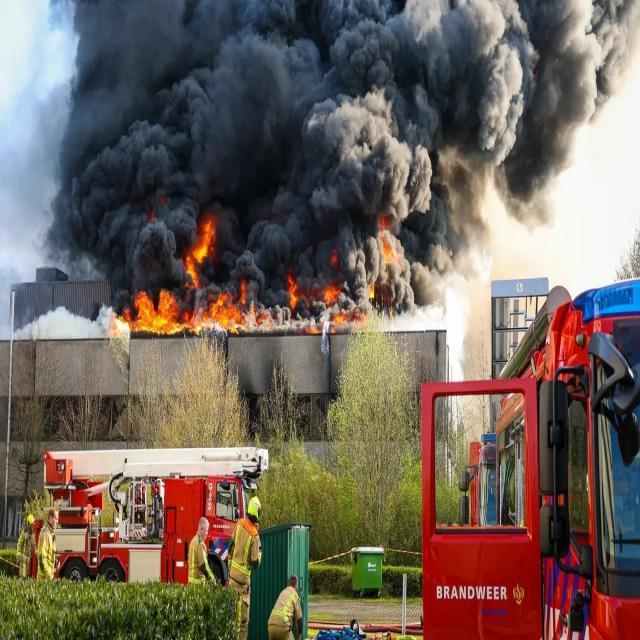Fire: (107, 218, 272, 342), (310, 285, 348, 335), (288, 274, 299, 308), (382, 247, 396, 265), (367, 284, 374, 298)
Smoke: (0, 0, 640, 431)
